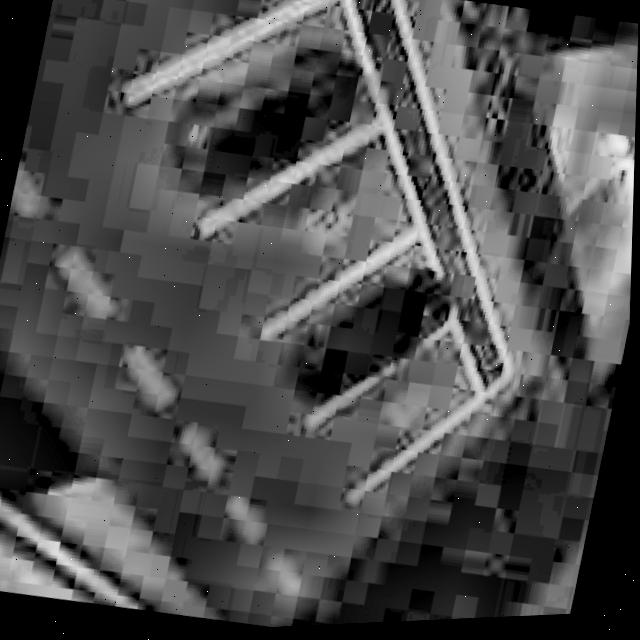car: (152, 17, 398, 235), (273, 236, 480, 438)
